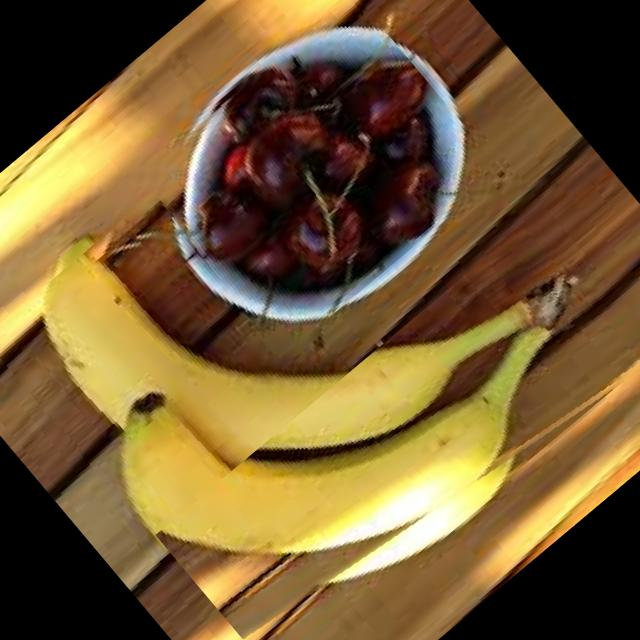Organic: (154, 214, 640, 640), (125, 0, 501, 358), (0, 210, 299, 536)
